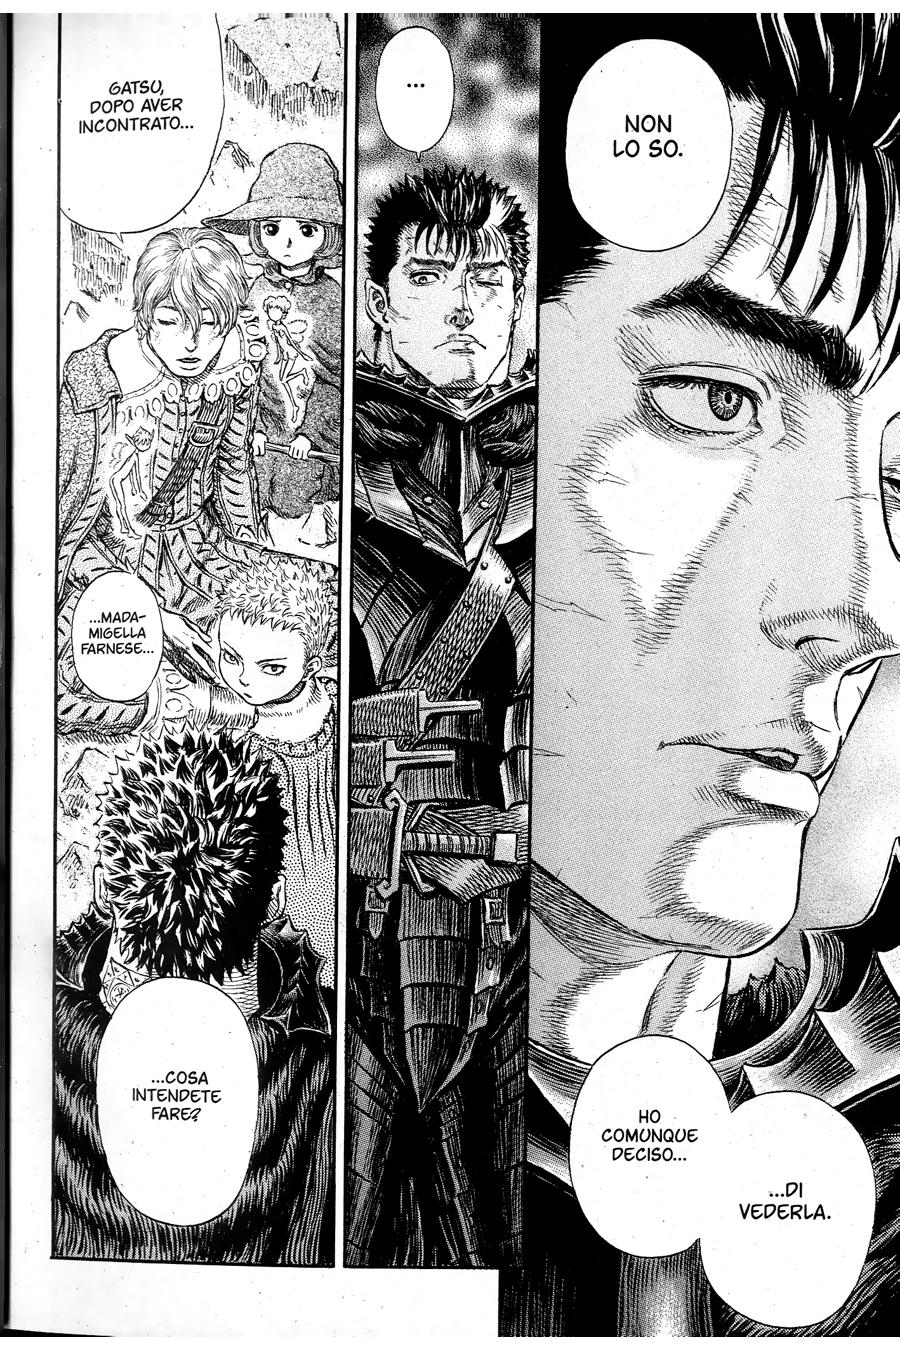Baloon: (571, 1038, 875, 1326), (93, 975, 255, 1219), (565, 38, 730, 248), (63, 17, 224, 230), (73, 572, 159, 701), (377, 26, 455, 154)
Vignetta: (536, 23, 900, 1340), (51, 11, 344, 1279), (344, 5, 534, 1268)
